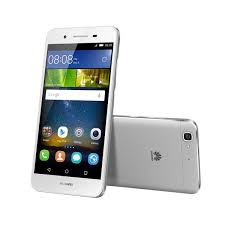huawei: (24, 21, 121, 197), (113, 111, 202, 196)
